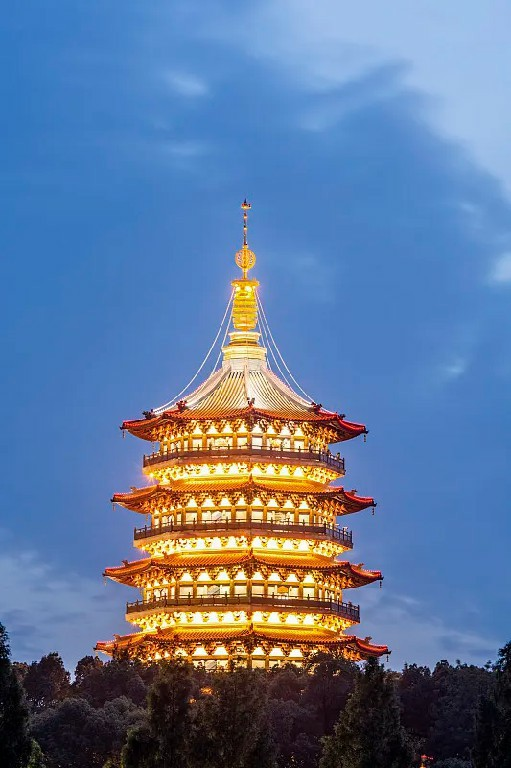Leifeng: (93, 196, 392, 673)
